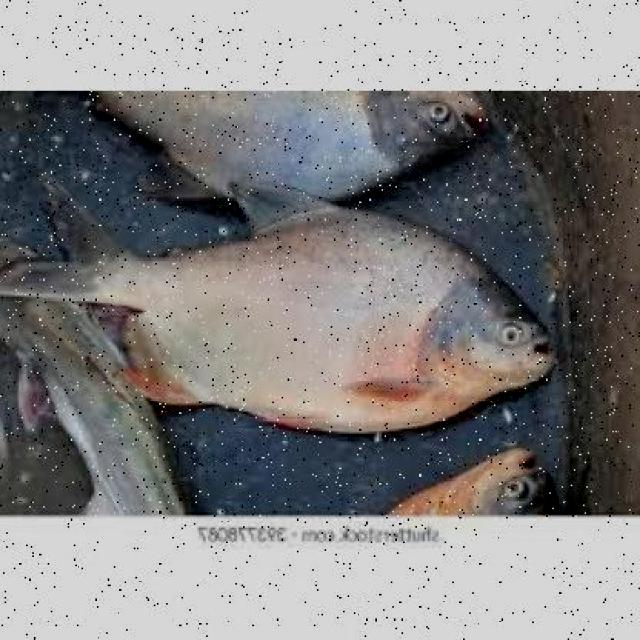ikan-pacu: (69, 215, 554, 434)
